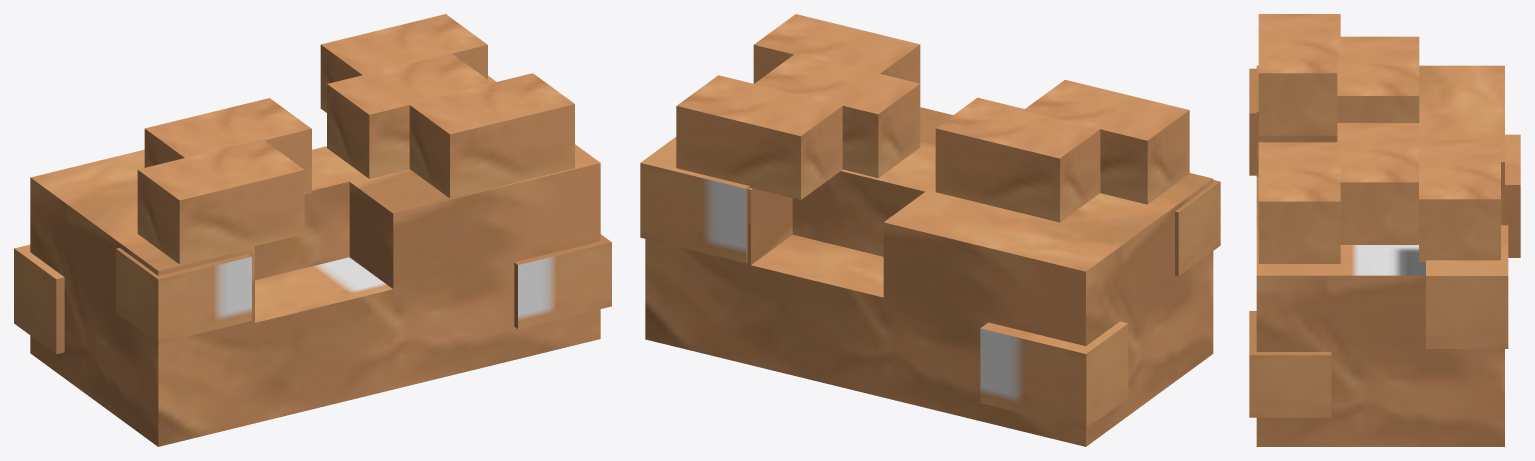
The model's file is Brick_Wall_1x2.fbx.
3 renders of one model, left to right at view 1: azimuth 30°, elevation 25°; view 2: azimuth 150°, elevation 25°; view 3: azimuth 270°, elevation 25°, orthographic. The views are drawn at different scales.
Parts seen in each view (by area): view 1: Brick_Wall_1x2; view 2: Brick_Wall_1x2; view 3: Brick_Wall_1x2.
Boxes of the visible parts, bbox=[...] form: Brick_Wall_1x2: bbox=[14, 14, 611, 446]; Brick_Wall_1x2: bbox=[640, 14, 1220, 446]; Brick_Wall_1x2: bbox=[1249, 14, 1520, 446].
Size of the model in its own units: 2.07 by 1.04 by 1.09.
